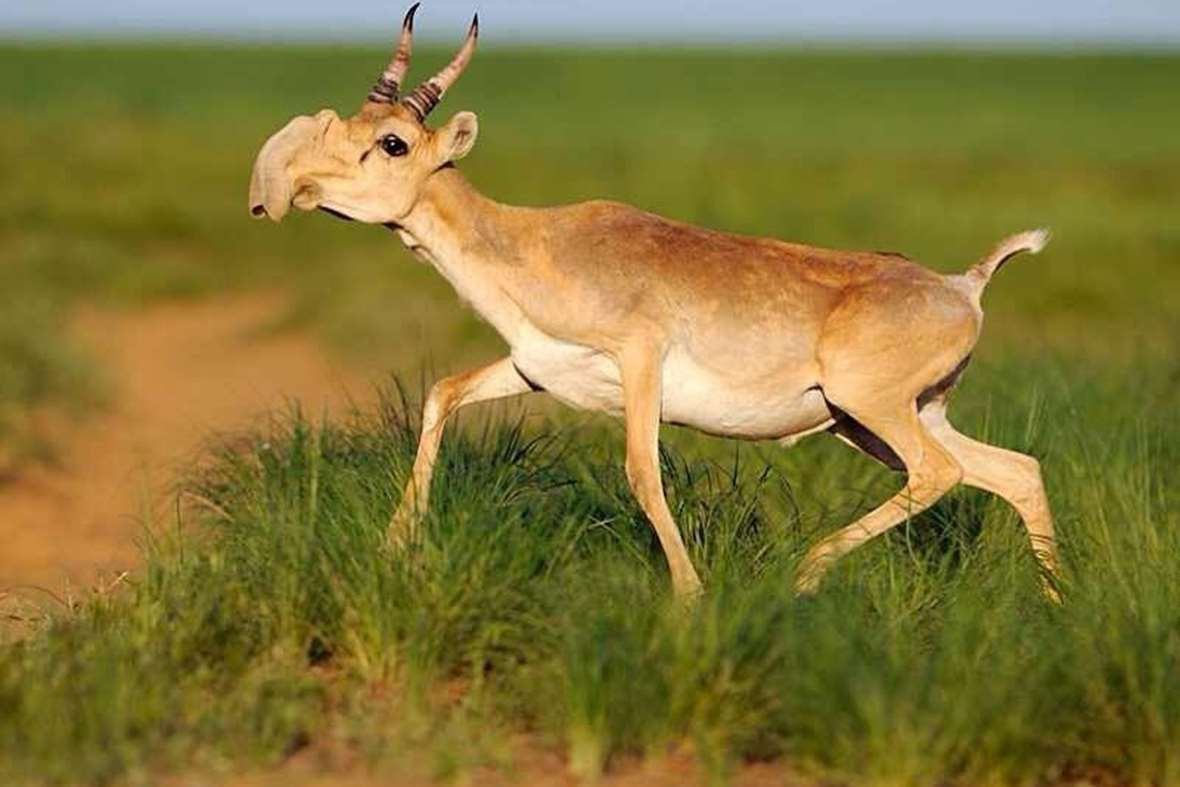saiga: (235, 20, 1097, 595)
